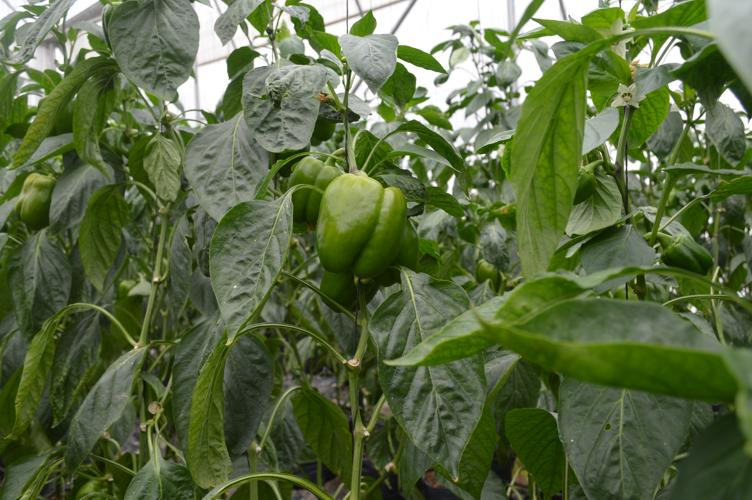BellPepper: (300, 155, 398, 272), (279, 142, 346, 222), (306, 259, 372, 315), (9, 165, 60, 235)
